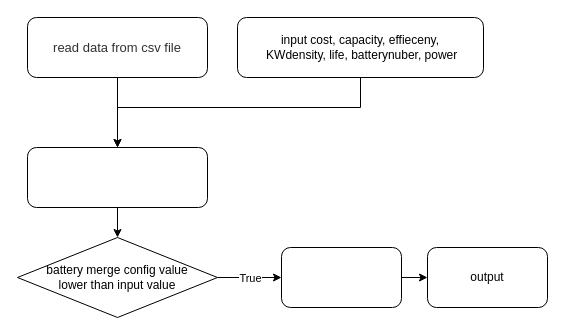
Some shapes in this 565 by 335 pixel diagram are drawn without their labels. The centre of each missing label's shape, as x and y in pixels:
Loop through each battery pack merge: point (117, 177)
multiplied by the coefficient: point (341, 277)
